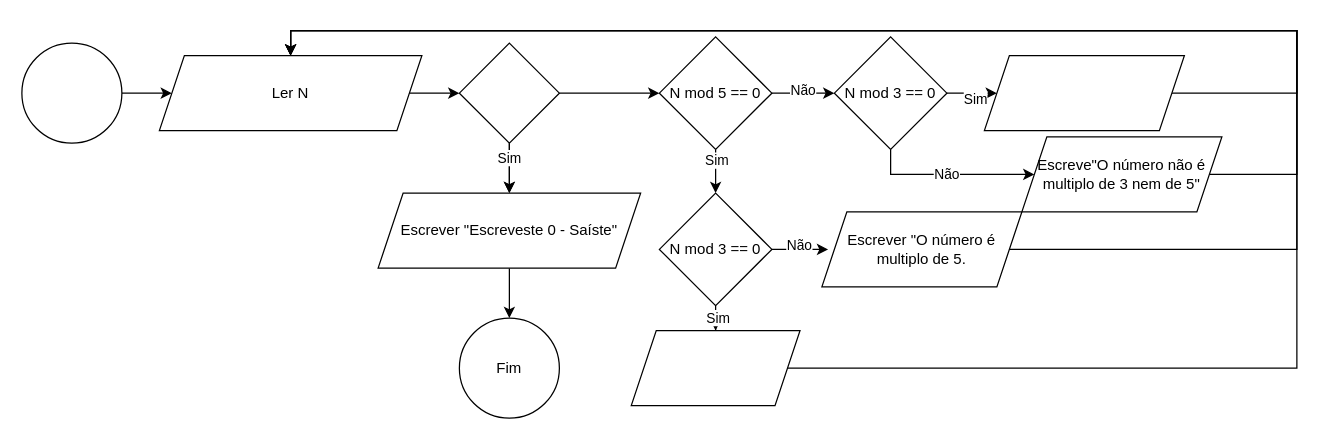
Image size: 1329x440. Some labels were removed from this diagram. The box of each missing label's shape, as (x1, y1, x2, y2) in pixels:
Escrever "O número é multiplo de 3 e 5: (630, 329, 800, 406)
Escrever "O número é multiplo de 3.: (983, 54, 1184, 131)
Incio: (21, 42, 122, 143)
N == 0: (458, 42, 559, 143)
